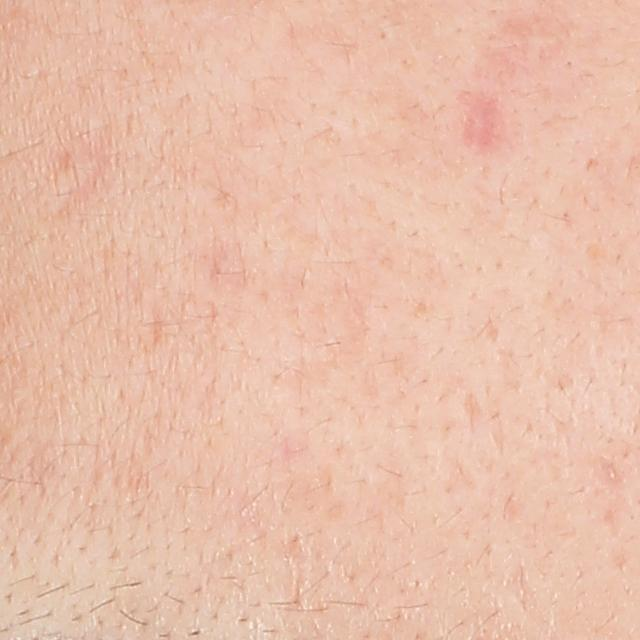atrophic_scar: (461, 386, 489, 431)
